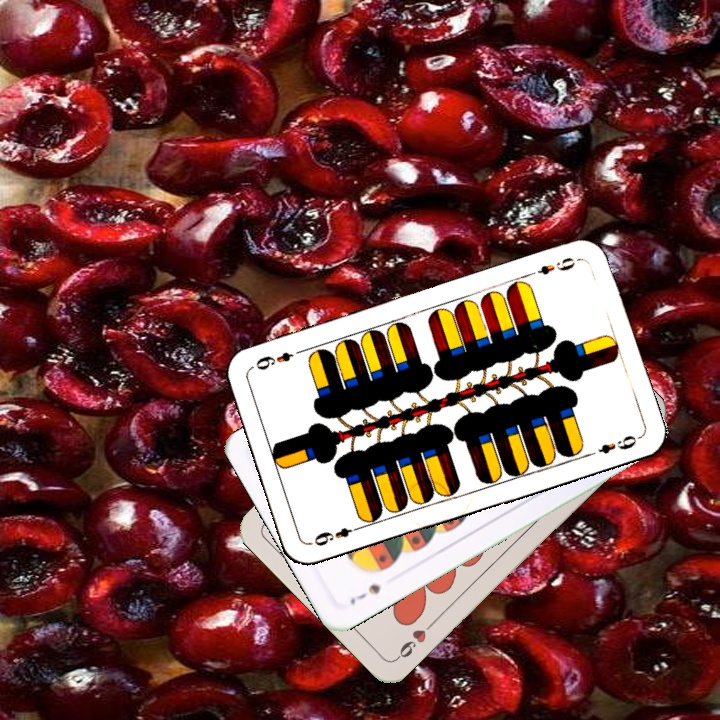E9: (310, 521, 365, 549), (525, 253, 578, 279)
H9: (392, 617, 438, 663)
S7: (346, 580, 384, 607)
